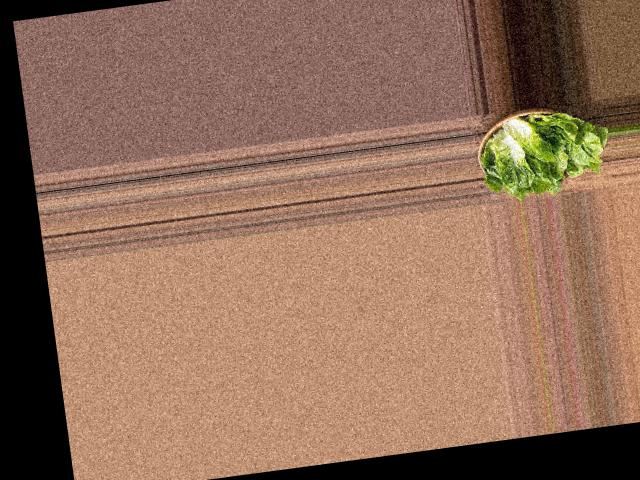lettuce: (467, 100, 612, 201)
